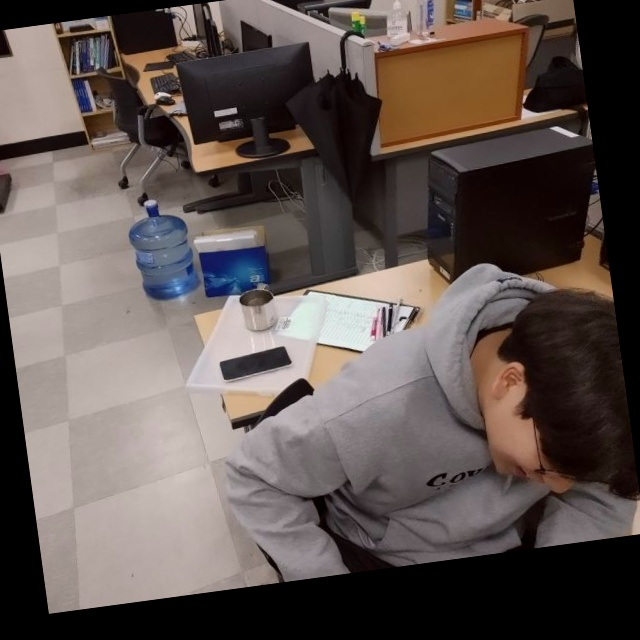cup: (238, 284, 282, 334)
phone: (216, 344, 295, 384)
